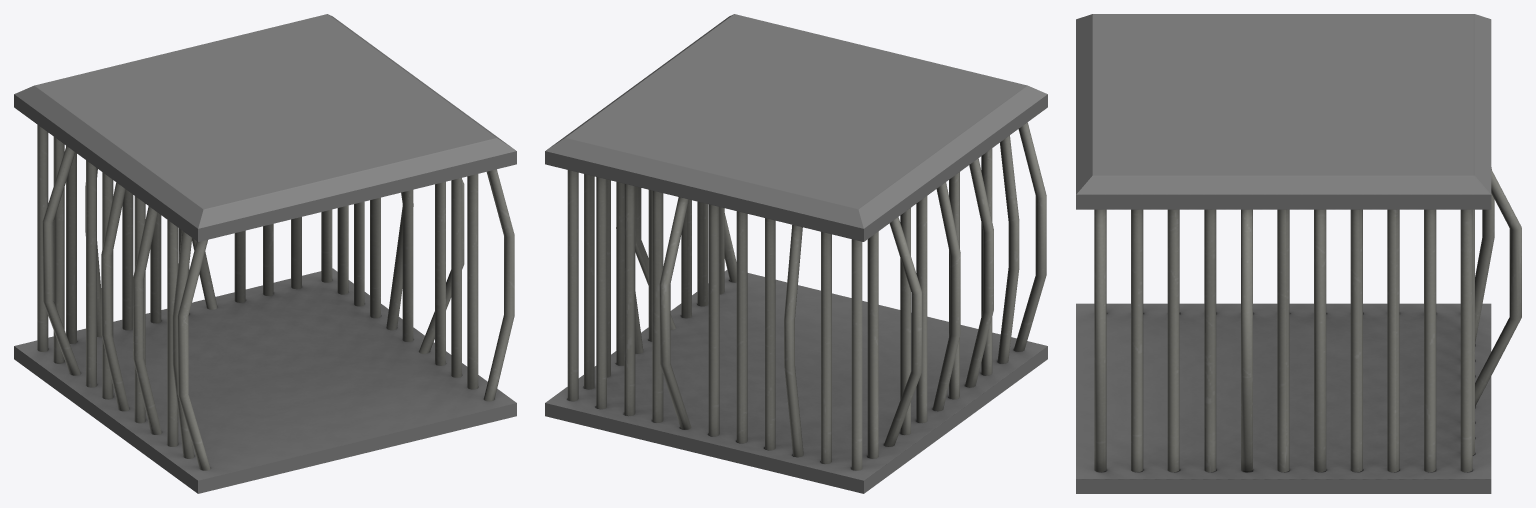
The model's file is Cage2.fbx.
3 renders of one model, left to right at view 1: azimuth 30°, elevation 25°; view 2: azimuth 150°, elevation 25°; view 3: azimuth 270°, elevation 25°, orthographic. The views are drawn at different scales.
Parts seen in each view (by area): view 1: Base_top, Base, CageSide, CageF_B; view 2: Base_top, Base, CageSide, CageF_B; view 3: Base_top, Base, CageSide, CageF_B.
Part boxes in pixels (<box>): Base_top: <box>14,14,516,241</box>; Base: <box>14,268,516,493</box>; CageSide: <box>37,124,514,470</box>; CageF_B: <box>66,145,301,343</box>; Base_top: <box>545,14,1047,241</box>; Base: <box>545,270,1047,493</box>; CageSide: <box>567,122,1046,470</box>; CageF_B: <box>596,177,831,463</box>; Base_top: <box>1076,14,1491,209</box>; Base: <box>1076,303,1491,493</box>; CageSide: <box>1094,209,1472,472</box>; CageF_B: <box>1472,167,1521,454</box>.
Bounding box in the file's own units: 379 × 281 × 365.
